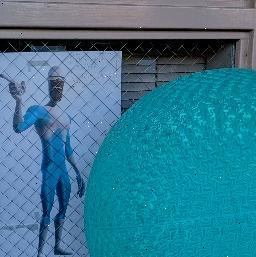algae: (85, 66, 256, 257)
